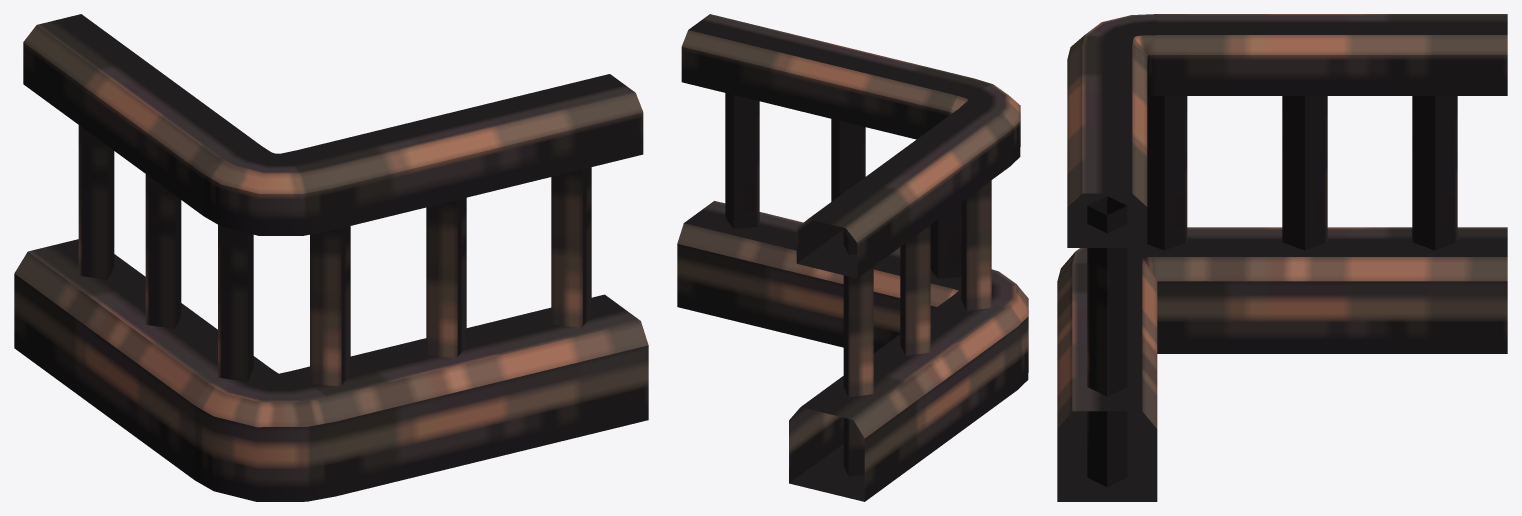
Rendered from EnvBdgMD_Factory_B_Fenece_A_CoOunt_RF.FBX.
The picture shows the model from 3 angles, left to right: view 1: azimuth 30°, elevation 25°; view 2: azimuth 150°, elevation 25°; view 3: azimuth 270°, elevation 25°; orthographic projection. The views are drawn at different scales.
Visible parts, largest first — view 1: EnvBdgMD_Factory_B_Fenece_A_CoOunt_RF; view 2: EnvBdgMD_Factory_B_Fenece_A_CoOunt_RF; view 3: EnvBdgMD_Factory_B_Fenece_A_CoOunt_RF.
Boxes of the visible parts, box(x1,y1,x2,y2) form: EnvBdgMD_Factory_B_Fenece_A_CoOunt_RF: box(14, 14, 648, 501); EnvBdgMD_Factory_B_Fenece_A_CoOunt_RF: box(677, 14, 1028, 501); EnvBdgMD_Factory_B_Fenece_A_CoOunt_RF: box(1057, 14, 1507, 501).
Bounding box in the file's own units: 113 × 85 × 113.
